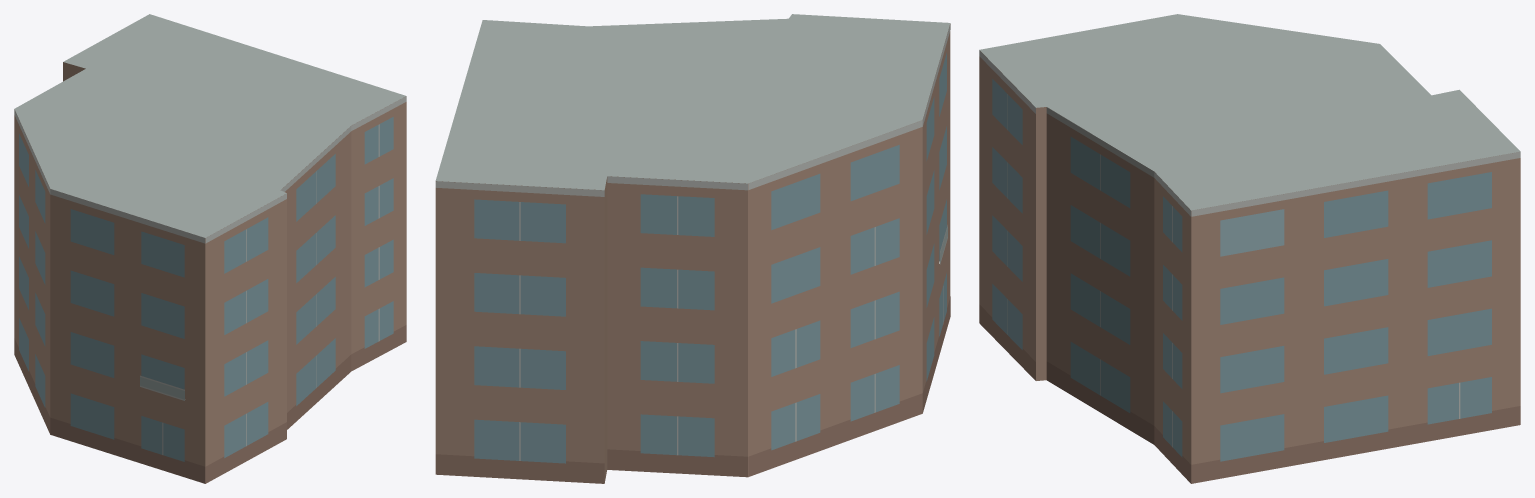
File: survey-upis-32506226.glb
3 views of the same model, side by side, from view 1: azimuth 30°, elevation 25°; view 2: azimuth 150°, elevation 25°; view 3: azimuth 270°, elevation 25° (orthographic). The views are drawn at different scales.
Parts seen in each view (by area): view 1: survey-upis-32506226.tmp; view 2: survey-upis-32506226.tmp; view 3: survey-upis-32506226.tmp.
Boxes of the visible parts, bbox=[...] form: survey-upis-32506226.tmp: bbox=[14, 14, 406, 483]; survey-upis-32506226.tmp: bbox=[435, 14, 950, 483]; survey-upis-32506226.tmp: bbox=[979, 14, 1520, 483].
Bounding box in the file's own units: 16.36 × 10.6 × 19.04.
